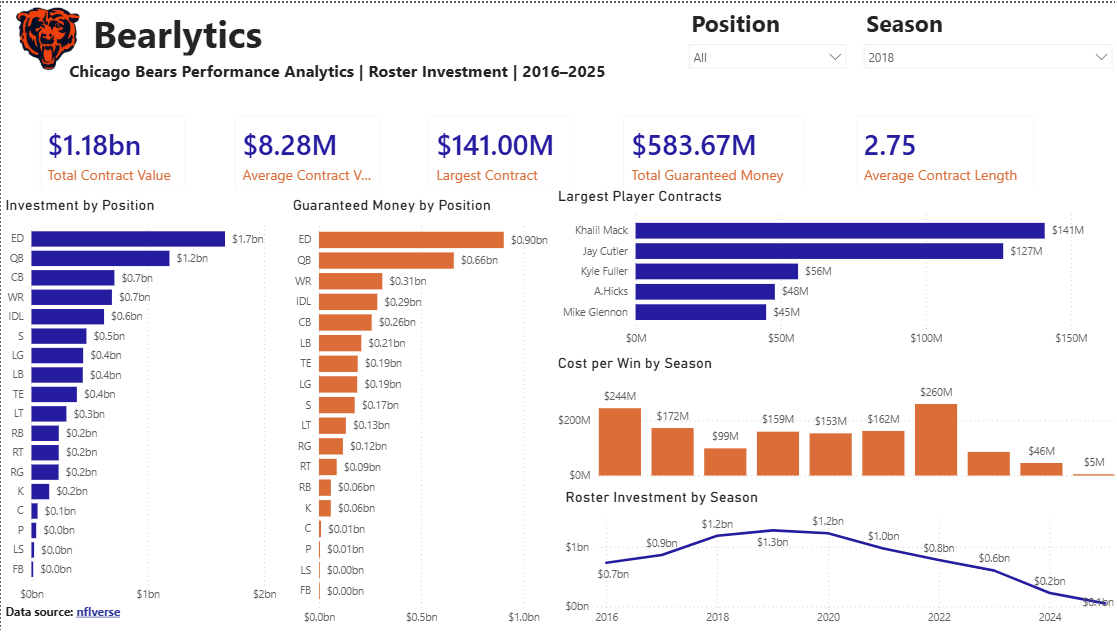

What the dashboard file says about the page in this screenshot:
{"tool":"powerbi","page":{"name":"Roster Investment","canvas":[1280,720],"ordinal":3},"visuals":[{"type":"textbox","box":[100,0,220,90],"z":0},{"type":"image","box":[0,0,106.7,81.7],"z":1000},{"type":"slicer","fields":{"Values":["Dim Season.Season"]},"box":[975.7,0,304.3,100],"z":2000},{"type":"textbox","box":[73.3,60,681.7,36.7],"z":3000},{"type":"cardVisual","fields":{"Data":["Measuress.Total Contract Value"]},"box":[26.8,111.4,200,120],"z":4000},{"type":"cardVisual","fields":{"Data":["Measuress.Average Contract Value"]},"box":[249.4,111.4,200,120],"z":5000},{"type":"cardVisual","fields":{"Data":["Measuress.Largest Contract"]},"box":[472,111.4,200,120],"z":6000},{"type":"cardVisual","fields":{"Data":["Measuress.Total Guaranteed Money"]},"box":[694.6,111.4,242.9,120],"z":7000},{"type":"cardVisual","fields":{"Data":["Measuress.Average Contract Length"]},"box":[960,111.4,237.1,120],"z":8000},{"type":"slicer","fields":{"Values":["Dim Players.Position"]},"box":[775.7,0,200,110],"z":9000},{"type":"clusteredBarChart","title":"Investment by Position","fields":{"Y":["Measuress.Total Contract Value"],"Category":["Fact Salary.Position"]},"box":[0,220,320,474.3],"z":11000},{"type":"clusteredBarChart","title":"Guaranteed Money by Position","fields":{"Y":["Measuress.Total Guaranteed Money"],"Category":["Fact Salary.Position"]},"box":[328.6,220,320,500],"z":12000},{"type":"barChart","title":"Largest Player Contracts","fields":{"Y":["Sum(Fact Salary.Contract_Value)"],"Category":["Fact Salary.Player_Name"]},"box":[631.4,210,648.6,191.4],"z":13000},{"type":"columnChart","title":"Cost per Win by Season","fields":{"Category":["Dim Season.Season"],"Y":["Dim Date.Cost Per Win"]},"box":[631.4,401.4,647.1,152.9],"z":14000},{"type":"lineChart","title":"Roster Investment by Season","fields":{"Category":["Dim Season.Season"],"Y":["Measuress.Total Contract Value"]},"box":[640,554.3,640,165.7],"z":15000},{"type":"textbox","box":[0,681.4,141.4,38.6],"z":15001}]}

Visuals, with their boxes in screenshot pixels (x1, y1, x2, y2), scaled from the page's 1280x720 canvas onto the 1117x632 screenshot:
textbox: detection(87, 0, 279, 79)
image: detection(0, 0, 93, 72)
slicer - Dim Season.Season: detection(851, 0, 1116, 88)
textbox: detection(64, 53, 659, 85)
cardVisual - Measuress.Total Contract Value: detection(23, 98, 198, 203)
cardVisual - Measuress.Average Contract Value: detection(218, 98, 392, 203)
cardVisual - Measuress.Largest Contract: detection(412, 98, 586, 203)
cardVisual - Measuress.Total Guaranteed Money: detection(606, 98, 818, 203)
cardVisual - Measuress.Average Contract Length: detection(838, 98, 1045, 203)
slicer - Dim Players.Position: detection(677, 0, 851, 97)
"Investment by Position" clusteredBarChart: detection(0, 193, 279, 609)
"Guaranteed Money by Position" clusteredBarChart: detection(287, 193, 566, 631)
"Largest Player Contracts" barChart: detection(551, 184, 1116, 352)
"Cost per Win by Season" columnChart: detection(551, 352, 1116, 487)
"Roster Investment by Season" lineChart: detection(558, 487, 1116, 631)
textbox: detection(0, 598, 123, 631)
